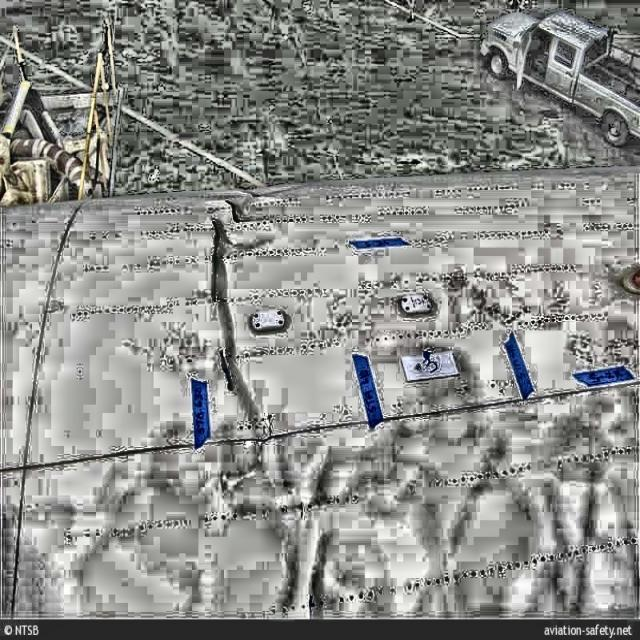crack: (205, 215, 227, 308), (215, 346, 238, 399), (228, 203, 244, 227)
